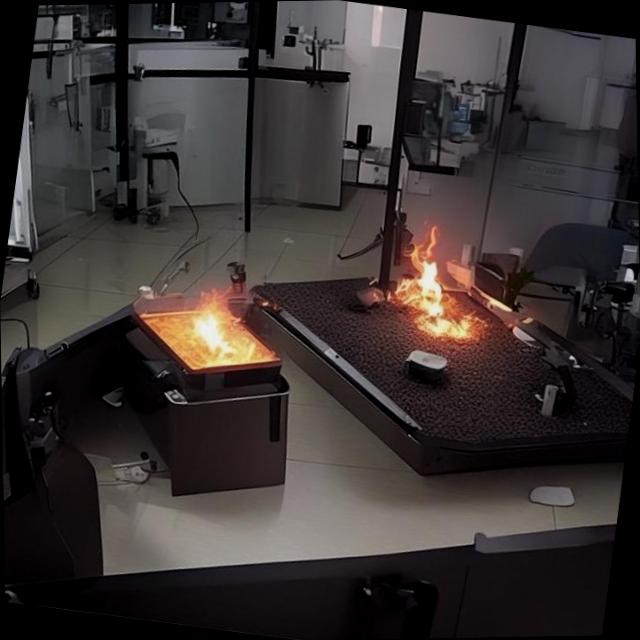fire: (136, 258, 278, 389), (364, 231, 489, 371)
